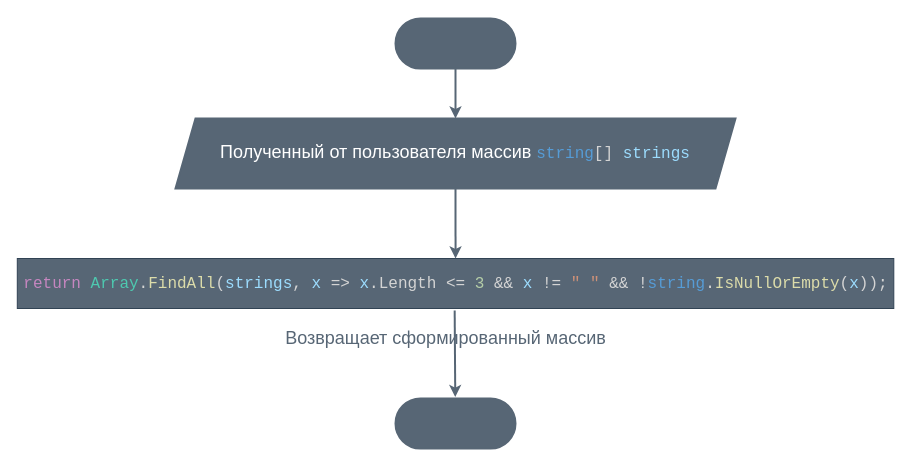
Image size: 912x466. Some labels were removed from this diagram. Each missing label, with the box of its shape:
Конец: (394, 397, 516, 449)
Начало: (394, 17, 516, 69)
